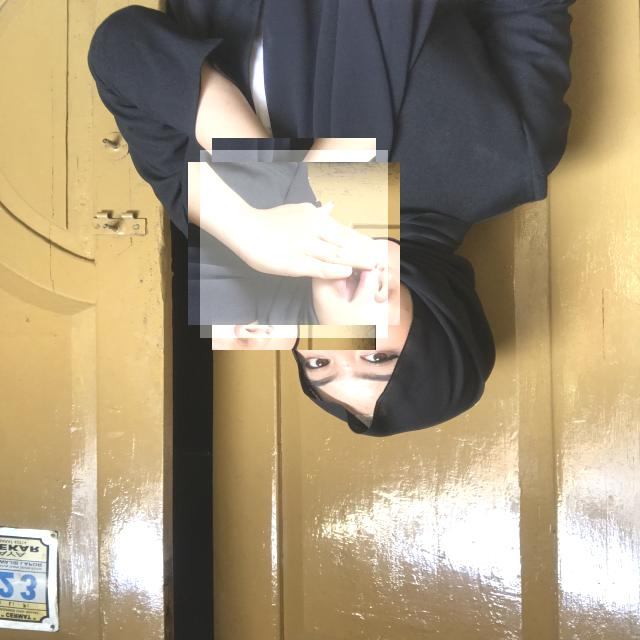ngantuk: (200, 150, 388, 338)
